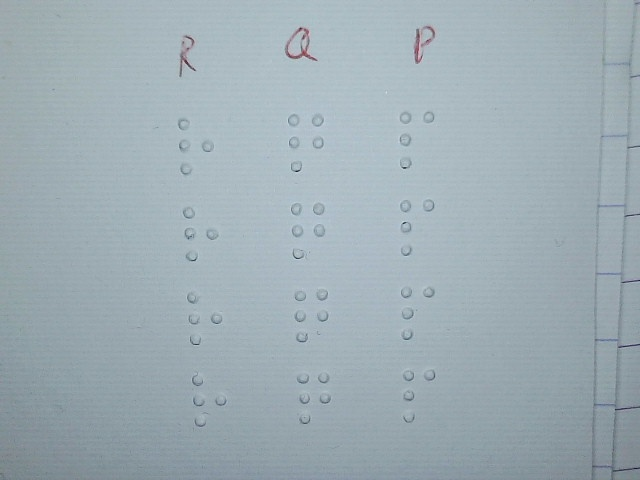P: (398, 109, 436, 169), (398, 197, 436, 257), (400, 283, 436, 340), (401, 366, 437, 423)
Q: (287, 112, 325, 172), (289, 199, 327, 259), (293, 287, 330, 343), (296, 369, 332, 424)
R: (177, 116, 215, 176), (181, 204, 220, 262), (185, 288, 224, 346), (191, 372, 227, 427)
